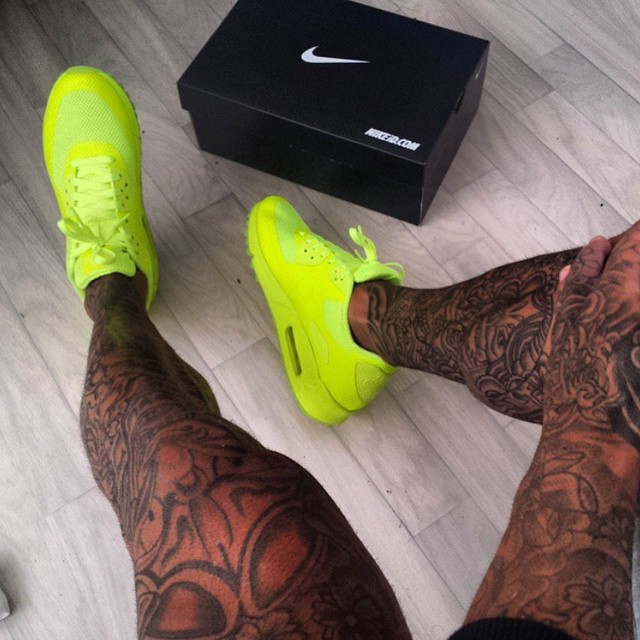sneaker: (234, 180, 417, 442), (23, 51, 181, 335)
